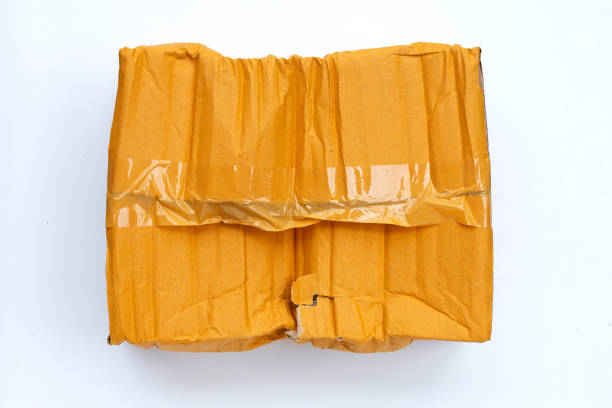damaged package: (126, 130, 486, 354)
